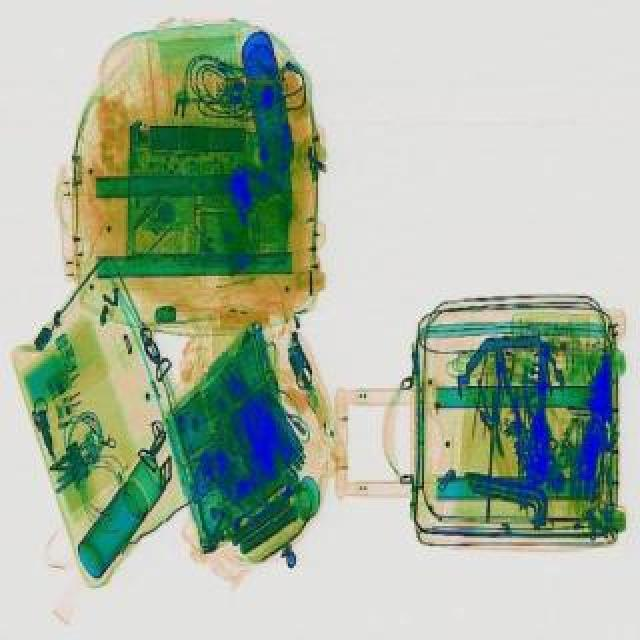wrench: (484, 344, 524, 456)
